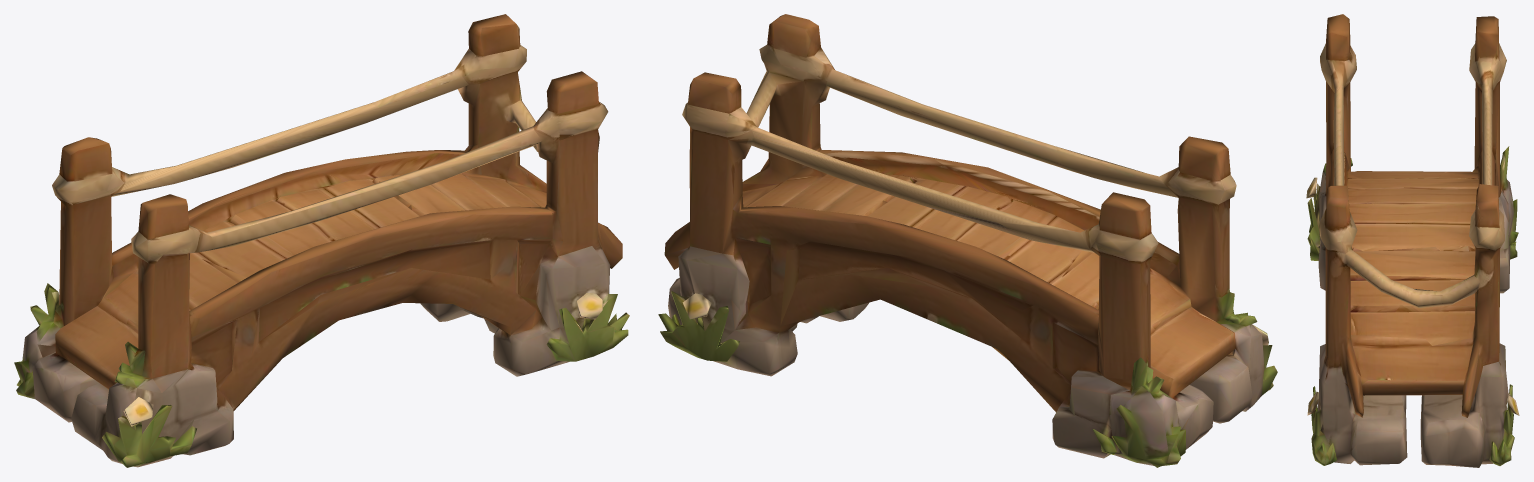
3 renders of one model, left to right at view 1: azimuth 30°, elevation 25°; view 2: azimuth 150°, elevation 25°; view 3: azimuth 270°, elevation 25°, orthographic. The views are drawn at different scales.
Visible parts, largest first — view 1: wooden-bridge; view 2: wooden-bridge; view 3: wooden-bridge.
Boxes of the visible parts, x1=… form: wooden-bridge: x1=14, y1=14, x2=629, y2=467; wooden-bridge: x1=658, y1=14, x2=1277, y2=467; wooden-bridge: x1=1306, y1=14, x2=1519, y2=467.
Bounding box in the file's own units: 5 × 2.49 × 1.8.
1 material, 1 textured.
